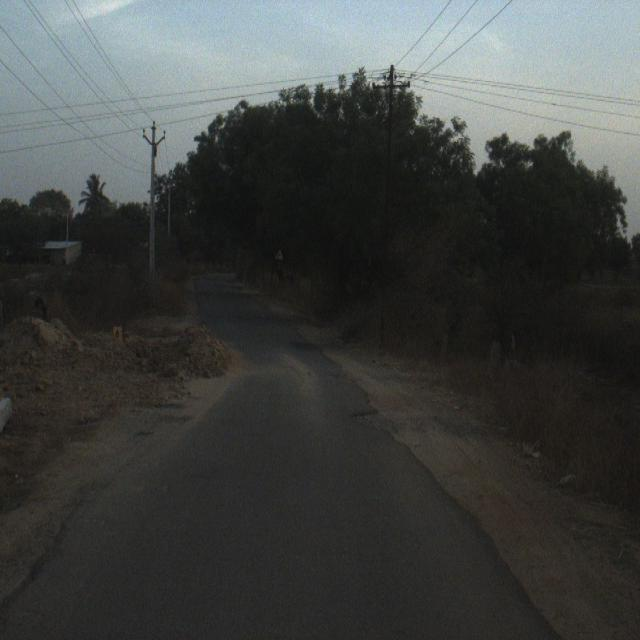Pothole: (328, 397, 396, 461)
